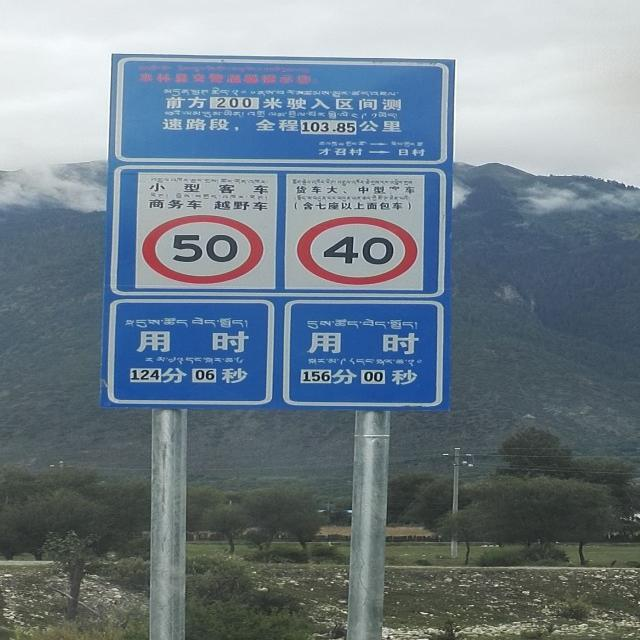speed limit 40: (298, 215, 414, 285)
speed limit 50: (141, 214, 262, 284)
